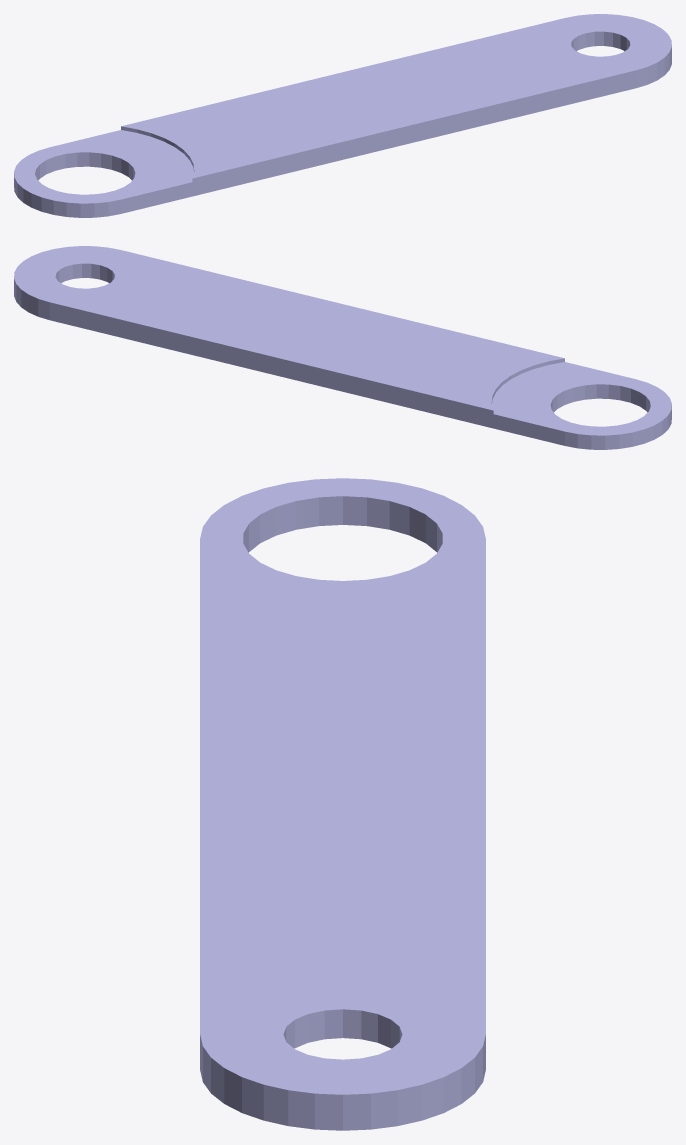
3 views of the same model, one above another, from view 1: azimuth 30°, elevation 25°; view 2: azimuth 150°, elevation 25°; view 3: azimuth 270°, elevation 25° (orthographic). The views are drawn at different scales.
Parts seen in each view (by area): view 1: Sólido1; view 2: Sólido1; view 3: Sólido1.
Boxes of the visible parts, x1,y1,x2,y2 form: Sólido1: (14, 14, 671, 217); Sólido1: (14, 246, 671, 449); Sólido1: (200, 478, 485, 1130).
Bounding box in the file's own units: 186 × 5 × 36.
